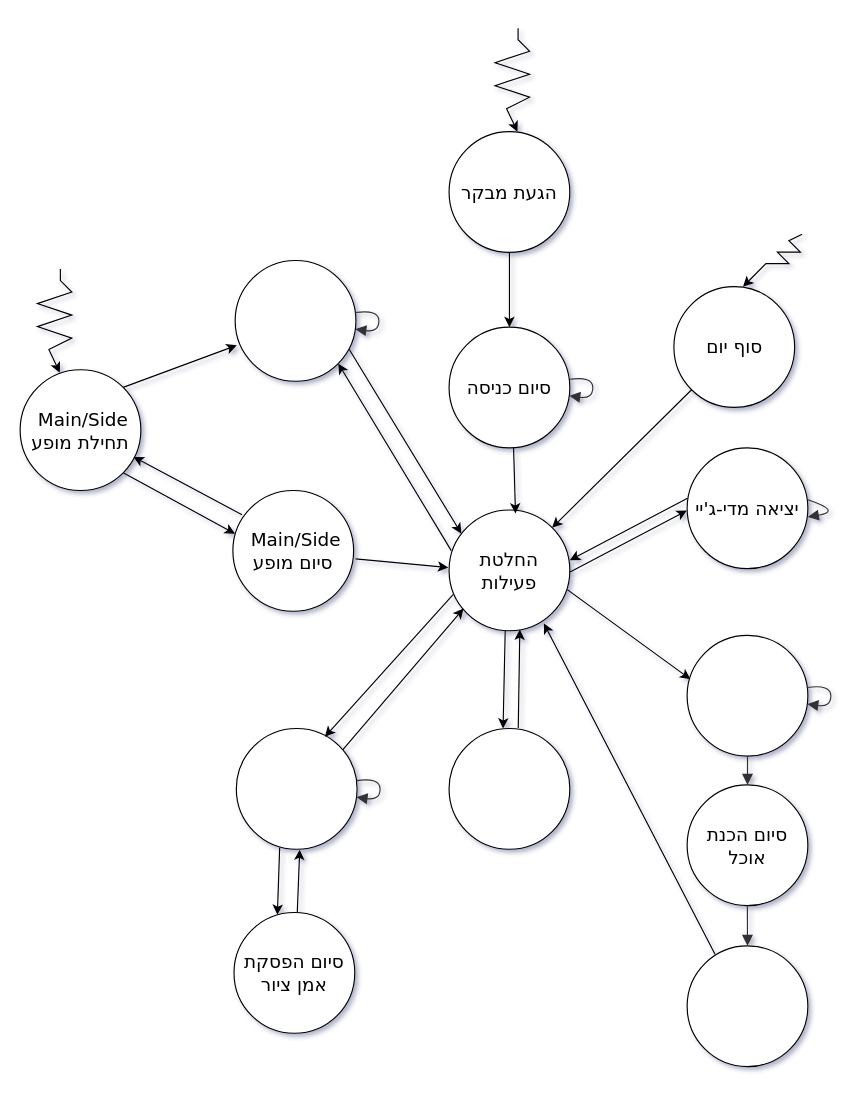
The diagram is 858 pixels wide and 1094 high, and some of its shapes have lost their labels. The box of each missing label's shape, as (x1, y1, x2, y2) in pixels:
נטישת תור בתחנות שירות: (448, 727, 570, 849)
סיום אכילה: (686, 945, 808, 1067)
סיום הזמנת אוכל: (686, 634, 808, 756)
סיום שירות בתחנה: (235, 727, 357, 849)
עזיבה מוקדמת ממופע: (234, 259, 356, 381)
